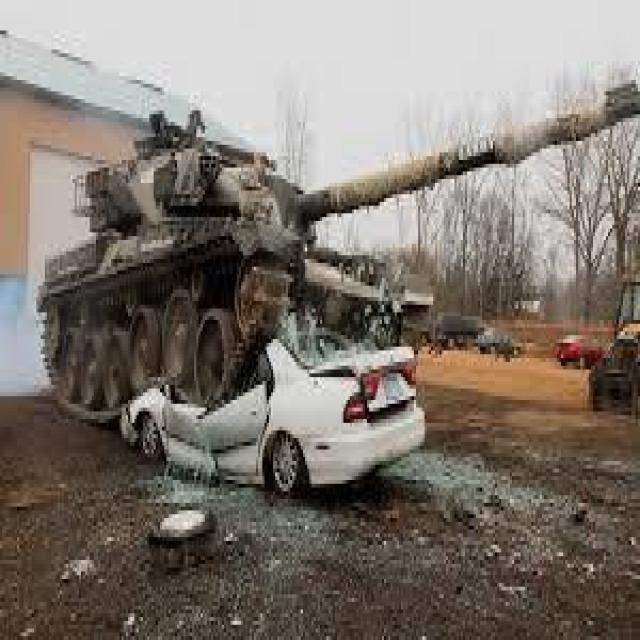Tanks: (42, 88, 570, 438)
